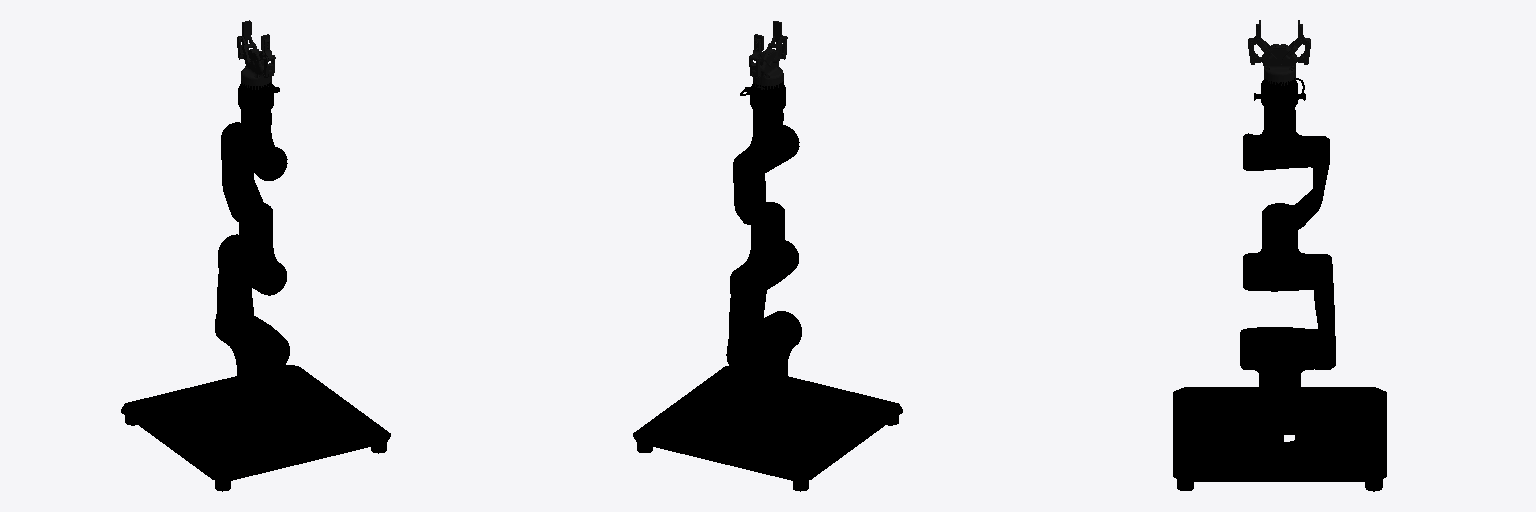
--- Facts derived from the render (not from the file) ---
Views: 3 orthographic renders of the robot side by side, from view 1: azimuth 30°, elevation 25°; view 2: azimuth 150°, elevation 25°; view 3: azimuth 270°, elevation 25°.
Model mara with 24 links and 23 joints (12 revolute, 11 fixed), rooted at world, posed every joint at zero.
Links seen in each view (by area): view 1: base_link, base_robot, motor4_link, motor1_link, motor1_cover, motor2_link, motor3_link, motor5_link, motor3_cover, motor5_cover, motor6_link, robotiq_arg2f_base; view 2: base_link, base_robot, motor2_link, motor4_link, motor1_link, motor3_link, motor5_link, motor6_link, motor1_cover, robotiq_arg2f_base, motor5_cover; view 3: base_link, base_robot, motor1_link, motor3_link, motor4_link, motor5_link, motor2_link, motor1_cover, motor6_link, motor5_cover, robotiq_arg2f_base, motor3_cover.
Boxes of the visible links, x1,y1,x2,y2 form: base_link: (121,364,390,491); base_robot: (207,386,304,441); motor4_link: (221,122,272,229); motor1_link: (223,312,275,395); motor1_cover: (221,310,289,399); motor2_link: (215,234,253,342); motor3_link: (227,228,276,282); motor5_link: (230,113,274,165); motor3_cover: (225,225,286,295); motor5_cover: (227,110,287,180); motor6_link: (238,81,279,114); robotiq_arg2f_base: (241,48,271,89); base_link: (633,366,902,491); base_robot: (719,386,816,441); motor2_link: (726,263,766,377); motor4_link: (733,150,784,230); motor1_link: (748,321,794,395); motor3_link: (744,226,792,289); motor5_link: (746,113,789,172); motor6_link: (740,81,785,114); motor1_cover: (748,311,801,399); robotiq_arg2f_base: (753,48,783,89); motor5_cover: (745,110,799,171); base_link: (1173,387,1386,491); base_robot: (1229,395,1330,451); motor1_link: (1254,327,1313,405); motor3_link: (1254,230,1309,290); motor4_link: (1262,136,1329,232); motor5_link: (1256,110,1307,168); motor2_link: (1314,254,1335,369); motor1_cover: (1240,327,1317,409); motor6_link: (1254,78,1305,111); motor5_cover: (1243,108,1312,170); robotiq_arg2f_base: (1261,44,1297,85); motor3_cover: (1243,227,1313,291).
Bounding box of the posed robot: 0.5004 × 0.5004 × 1.1 m (x, y, z).
20 mesh visuals loaded from 21 distinct referenced files (20 Collada DAE); not drawn: 5 (reference not matched to a file when rendering).

URDF robot description (mara):
<?xml version="1.0" ?>
<!-- =================================================================================== -->
<!-- |    This document was autogenerated by xacro from [local-path]/ros2_mara_ws/src/mara/mara_description/urdf/mara_robot_gripper_85.urdf.xacro | -->
<!-- |    EDITING THIS FILE BY HAND IS NOT RECOMMENDED                                 | -->
<!-- =================================================================================== -->
<robot name="mara" xmlns:xacro="http://ros.org/wiki/xacro">
  <!--
  Author: Alejandro  Hernandez
-->
  <link name="base_link">
    <inertial>
      <origin rpy="0 0 0" xyz="8.625E-08 -4.6583E-06 0.03145"/>
      <mass value="7.033"/>
      <inertia ixx="0.1478344" ixy="-0.00001" ixz="0.0" iyy="0.14782335" iyz="0.0" izz="0.29471799"/>
    </inertial>
    <visual>
      <origin rpy="0 0 0" xyz="0 0 0"/>
      <geometry>
        <mesh filename="package://mara_description/meshes/Base_plancha.dae" scale="0.001 0.001 0.001"/>
      </geometry>
      <material name="Gazebo/Grey">
        <color rgba="0. 0. 0. 1"/>
      </material>
    </visual>
    <collision>
      <origin rpy="0 0 0" xyz="0 0 0"/>
      <geometry>
        <mesh filename="package://mara_description/meshes/Base_plancha.dae" scale="0.001 0.001 0.001"/>
      </geometry>
    </collision>
  </link>
  <gazebo reference="base_link">
    <material>Gazebo/Grey</material>
    <selfCollide>True</selfCollide>
  </gazebo>
  <link name="base_robot">
    <inertial>
      <origin rpy="0 0 0" xyz="8.625E-08 -4.6583E-06 0.03145"/>
      <mass value="7.033"/>
      <inertia ixx="0.1478344" ixy="-0.00001" ixz="0.0" iyy="0.14782335" iyz="0.0" izz="0.29471799"/>
    </inertial>
    <visual>
      <origin rpy="0 0 0" xyz="0 0 0"/>
      <geometry>
        <mesh filename="package://mara_description/meshes/Base.dae" scale="0.001 0.001 0.001"/>
      </geometry>
      <material name="Gazebo/Black">
        <color rgba="0. 0. 0. 1"/>
      </material>
    </visual>
    <collision>
      <origin rpy="0 0 0" xyz="0 0 0"/>
      <geometry>
        <mesh filename="package://mara_description/meshes/Base.dae" scale="0.001 0.001 0.001"/>
      </geometry>
    </collision>
  </link>
  <gazebo reference="base_robot">
    <material>Gazebo/Black</material>
    <selfCollide>True</selfCollide>
  </gazebo>
  <link name="motor1_link">
    <inertial>
      <origin rpy="0 0 0" xyz="8.625E-08 -4.6583E-06 0.03145"/>
      <mass value="5.8"/>
      <inertia ixx="0.10105893" ixy="0.000211" ixz="-0.004" iyy="0.09386624" iyz="-0.01698537" izz="0.01449937"/>
    </inertial>
    <visual>
      <origin rpy="0 0 0" xyz="0 0 0"/>
      <geometry>
        <mesh filename="package://mara_description/meshes/MARA_T49.dae" scale="0.001 0.001 0.001"/>
      </geometry>
      <material name="Gazebo/White">
        <color rgba="0. 0. 0. 1"/>
      </material>
    </visual>
    <collision>
      <origin rpy="0 0 0" xyz="0 0 0"/>
      <geometry>
        <mesh filename="package://mara_description/meshes/MARA_T49.dae" scale="0.001 0.001 0.001"/>
      </geometry>
    </collision>
  </link>
  <gazebo reference="motor1_link">
    <material>Gazebo/White</material>
    <selfCollide>True</selfCollide>
  </gazebo>
  <link name="motor1_cover">
    <inertial>
      <origin rpy="0 0 0" xyz="8.625E-08 -4.6583E-06 0.03145"/>
      <mass value="5.8"/>
      <inertia ixx="0.10105893" ixy="0.000211" ixz="-0.004" iyy="0.09386624" iyz="-0.01698537" izz="0.01449937"/>
    </inertial>
    <visual>
      <origin rpy="0 0 0" xyz="0 0 0"/>
      <geometry>
        <mesh filename="package://mara_description/meshes/MARA_T49_Black.dae" scale="0.001 0.001 0.001"/>
      </geometry>
      <material name="Gazebo/Black">
        <color rgba="0. 0. 0. 1"/>
      </material>
    </visual>
    <collision>
      <origin rpy="0 0 0" xyz="0 0 0"/>
      <geometry>
        <mesh filename="package://mara_description/meshes/MARA_T49_Black.dae" scale="0.001 0.001 0.001"/>
      </geometry>
    </collision>
  </link>
  <gazebo reference="motor1_cover">
    <material>Gazebo/Black</material>
    <selfCollide>True</selfCollide>
  </gazebo>
  <link name="motor2_link">
    <inertial>
      <origin rpy="0 0 0" xyz="8.625E-08 -4.6583E-06 0.03145"/>
      <mass value="1.03237"/>
      <inertia ixx="0.014865226" ixy="0.0" ixz="0.0" iyy="0.01557" iyz="0.00071" izz="0.00092"/>
    </inertial>
    <visual>
      <origin rpy="0 0 0" xyz="0 0 0"/>
      <geometry>
        <mesh filename="package://mara_description/meshes/MARA_Link1.dae" scale="0.001 0.001 0.001"/>
      </geometry>
      <material name="Gazebo/Black">
        <color rgba="0. 0. 0. 1"/>
      </material>
    </visual>
    <collision>
      <origin rpy="0 0 0" xyz="0 0 0"/>
      <geometry>
        <mesh filename="package://mara_description/meshes/MARA_Link1.dae" scale="0.001 0.001 0.001"/>
      </geometry>
    </collision>
  </link>
  <gazebo reference="motor2_link">
    <material>Gazebo/Black</material>
    <selfCollide>True</selfCollide>
  </gazebo>
  <link name="motor3_link">
    <inertial>
      <origin rpy="0 0 0" xyz="8.625E-08 -4.6583E-06 0.03145"/>
      <mass value="3.8"/>
      <inertia ixx="0.04517" ixy="0.00002" ixz="0.0" iyy="0.01587" iyz="0.01444" izz="0.03303"/>
    </inertial>
    <visual>
      <origin rpy="0 0 0" xyz="0 0 0"/>
      <geometry>
        <mesh filename="package://mara_description/meshes/MARA_T30.dae" scale="0.001 0.001 0.001"/>
      </geometry>
      <material name="Gazebo/White">
        <color rgba="0. 0. 0. 1"/>
      </material>
    </visual>
    <collision>
      <origin rpy="0 0 0" xyz="0 0 0"/>
      <geometry>
        <mesh filename="package://mara_description/meshes/MARA_T30.dae" scale="0.001 0.001 0.001"/>
      </geometry>
    </collision>
  </link>
  <gazebo reference="motor3_link">
    <material>Gazebo/White</material>
    <selfCollide>True</selfCollide>
  </gazebo>
  <link name="motor3_cover">
    <inertial>
      <origin rpy="0 0 0" xyz="8.625E-08 -4.6583E-06 0.03145"/>
      <mass value="3.8"/>
      <inertia ixx="0.04517" ixy="0.00002" ixz="0.0" iyy="0.01587" iyz="0.01444" izz="0.03303"/>
    </inertial>
    <visual>
      <origin rpy="0 0 0" xyz="0 0 0"/>
      <geometry>
        <mesh filename="package://mara_description/meshes/MARA_T30_Black.dae" scale="0.001 0.001 0.001"/>
      </geometry>
      <material name="Gazebo/Black">
        <color rgba="0. 0. 0. 1"/>
      </material>
    </visual>
    <collision>
      <origin rpy="0 0 0" xyz="0 0 0"/>
      <geometry>
        <mesh filename="package://mara_description/meshes/MARA_T30_Black.dae" scale="0.001 0.001 0.001"/>
      </geometry>
    </collision>
  </link>
  <gazebo reference="motor3_cover">
    <material>Gazebo/Black</material>
    <selfCollide>True</selfCollide>
  </gazebo>
  <link name="motor4_link">
    <inertial>
      <origin rpy="0 0 0" xyz="8.625E-08 -4.6583E-06 0.03145"/>
      <mass value="1.1"/>
      <inertia ixx="0.01464" ixy="0.0" ixz="0.0" iyy="0.00895" iyz="-0.00631" izz="0.00725"/>
    </inertial>
    <visual>
      <origin rpy="0 0 0" xyz="0 0 0"/>
      <geometry>
        <mesh filename="package://mara_description/meshes/MARA_Link2.dae" scale="0.001 0.001 0.001"/>
      </geometry>
      <material name="Gazebo/Black">
        <color rgba="0. 0. 0. 1"/>
      </material>
    </visual>
    <collision>
      <origin rpy="0 0 0" xyz="0 0 0"/>
      <geometry>
        <mesh filename="package://mara_description/meshes/MARA_Link2.dae" scale="0.001 0.001 0.001"/>
      </geometry>
    </collision>
  </link>
  <gazebo reference="motor4_link">
    <material>Gazebo/Black</material>
    <selfCollide>True</selfCollide>
  </gazebo>
  <link name="motor5_link">
    <inertial>
      <origin rpy="0 0 0" xyz="8.625E-08 -4.6583E-06 0.03145"/>
      <mass value="2.9"/>
      <inertia ixx="0.03406" ixy="0.0" ixz="0.0" iyy="0.01066" iyz="0.00989" izz="0.02563"/>
    </inertial>
    <visual>
      <origin rpy="0 0 0" xyz="0 0 0"/>
      <geometry>
        <mesh filename="package://mara_description/meshes/MARA_T5.4.dae" scale="0.001 0.001 0.001"/>
      </geometry>
      <material name="Gazebo/White">
        <color rgba="0. 0. 0. 1"/>
      </material>
    </visual>
    <collision>
      <origin rpy="0 0 0" xyz="0 0 0"/>
      <geometry>
        <mesh filename="package://mara_description/meshes/MARA_T5.4.dae" scale="0.001 0.001 0.001"/>
      </geometry>
    </collision>
  </link>
  <gazebo reference="motor5_link">
    <material>Gazebo/White</material>
    <selfCollide>True</selfCollide>
  </gazebo>
  <link name="motor5_cover">
    <inertial>
      <origin rpy="0 0 0" xyz="8.625E-08 -4.6583E-06 0.03145"/>
      <mass value="2.9"/>
      <inertia ixx="0.03406" ixy="0.0" ixz="0.0" iyy="0.01066" iyz="0.00989" izz="0.02563"/>
    </inertial>
    <visual>
      <origin rpy="0 0 0" xyz="0 0 0"/>
      <geometry>
        <mesh filename="package://mara_description/meshes/MARA_T5.4_black.dae" scale="0.001 0.001 0.001"/>
      </geometry>
      <material name="Gazebo/Black">
        <color rgba="0. 0. 0. 1"/>
      </material>
    </visual>
    <collision>
      <origin rpy="0 0 0" xyz="0 0 0"/>
      <geometry>
        <mesh filename="package://mara_description/meshes/MARA_T5.4_black.dae" scale="0.001 0.001 0.001"/>
      </geometry>
    </collision>
  </link>
  <gazebo reference="motor5_cover">
    <material>Gazebo/Black</material>
    <selfCollide>True</selfCollide>
  </gazebo>
  <link name="motor6_link">
    <inertial>
      <origin rpy="0 0 0" xyz="8.625E-08 -4.6583E-06 0.03145"/>
      <mass value="2.9"/>
      <inertia ixx="0.0005" ixy="0.0" ixz="0.0" iyy="0.0005" iyz="0.0000" izz="0.0003"/>
    </inertial>
    <visual>
      <origin rpy="0 0 0" xyz="0 0 0"/>
      <geometry>
        <mesh filename="package://mara_description/meshes/MARA_GripperAdapter.dae" scale="0.001 0.001 0.001"/>
      </geometry>
      <material name="Gazebo/Black">
        <color rgba="0. 0. 0. 1"/>
      </material>
    </visual>
    <collision>
      <origin rpy="0 0 0" xyz="0 0 0"/>
      <geometry>
        <mesh filename="package://mara_description/meshes/MARA_GripperAdapter.dae" scale="0.001 0.001 0.001"/>
      </geometry>
    </collision>
  </link>
  <gazebo reference="motor6_link">
    <material>Gazebo/Black</material>
    <selfCollide>True</selfCollide>
  </gazebo>
  <link name="ee_link">
    </link>
  <gazebo reference="ee_link">
    <material>Gazebo/Blue</material>
    <selfCollide>False</selfCollide>
  </gazebo>
  <joint name="joint_bases" type="fixed">
    <origin rpy="0 0 0" xyz="0 0 0.04"/>
    <parent link="base_link"/>
    <child link="base_robot"/>
  </joint>
  <joint name="motor1" type="revolute">
    <origin rpy="0 0 0" xyz="0 0 0.05122"/>
    <parent link="base_robot"/>
    <child link="motor1_link"/>
    <axis xyz="0 0 -1"/>
    <limit effort="330.0" lower="-3.1416" upper="3.1416" velocity="3.1416"/>
    <dynamics damping="0" friction="0"/>
  </joint>
  <joint name="motor1_cover_joint" type="fixed">
    <origin rpy="0 0 0" xyz="0 0 0.0"/>
    <parent link="motor1_link"/>
    <child link="motor1_cover"/>
  </joint>
  <joint name="motor2" type="revolute">
    <origin rpy="0 0 0" xyz="0.118 0 0.1637"/>
    <parent link="motor1_link"/>
    <child link="motor2_link"/>
    <axis xyz="-1 0 0"/>
    <limit effort="330.0" lower="-3.1416" upper="3.1416" velocity="3.1416"/>
    <dynamics damping="0" friction="0"/>
  </joint>
  <joint name="motor3" type="revolute">
    <origin rpy="0 0 0" xyz="-0.009 0 0.2"/>
    <parent link="motor2_link"/>
    <child link="motor3_link"/>
    <axis xyz="1 0 0"/>
    <limit effort="330.0" lower="-3.1416" upper="3.1416" velocity="3.1416"/>
    <dynamics damping="0" friction="0"/>
  </joint>
  <joint name="motor3_cover_joint" type="fixed">
    <origin rpy="0 0 0" xyz="0 0 0.0"/>
    <parent link="motor3_link"/>
    <child link="motor3_cover"/>
  </joint>
  <joint name="motor4" type="revolute">
    <origin rpy="0 0 0" xyz="-0.109255 0 0.149255"/>
    <parent link="motor3_link"/>
    <child link="motor4_link"/>
    <axis xyz="0 0 -1"/>
    <limit effort="330.0" lower="-3.1416" upper="3.1416" velocity="3.1416"/>
    <dynamics damping="0" friction="0"/>
  </joint>
  <joint name="motor5" type="revolute">
    <origin rpy="0 0 0" xyz="0.1054570 0 0.16074"/>
    <parent link="motor4_link"/>
    <child link="motor5_link"/>
    <axis xyz="1 0 0"/>
    <limit effort="330.0" lower="-3.1416" upper="3.1416" velocity="3.1416"/>
    <dynamics damping="0" friction="0"/>
  </joint>
  <joint name="motor5_cover_joint" type="fixed">
    <origin rpy="0 0 0" xyz="0 0 0.0"/>
    <parent link="motor5_link"/>
    <child link="motor5_cover"/>
  </joint>
  <joint name="motor6" type="revolute">
    <origin rpy="0 0 0" xyz="-0.10625569 0 0.14675569"/>
    <parent link="motor5_link"/>
    <child link="motor6_link"/>
    <axis xyz="0 0 -1"/>
    <limit effort="330.0" lower="-3.1416" upper="3.1416" velocity="3.1416"/>
    <dynamics damping="0" friction="0"/>
  </joint>
  <joint name="ee_link" type="fixed">
    <origin rpy="0 -1.57 0" xyz="0 0.0 0.165"/>
    <!-- 0.24 -->
    <parent link="motor6_link"/>
    <child link="ee_link"/>
  </joint>
  <link name="tool0"/>
  <joint name="motor6_link-tool0_fixed_joint" type="fixed">
    <origin rpy="0 -1.57 0" xyz="0 0.0 0.165"/>
    <parent link="motor6_link"/>
    <child link="tool0"/>
  </joint>
  <transmission name="shoulder_pan_trans">
    <type>transmission_interface/SimpleTransmission</type>
    <joint name="motor1">
      <hardwareInterface>hardware_interface/PositionJointInterface</hardwareInterface>
    </joint>
    <actuator name="shoulder_pan_motor">
      <mechanicalReduction>1</mechanicalReduction>
    </actuator>
  </transmission>
  <transmission name="shoulder_lift_trans">
    <type>transmission_interface/SimpleTransmission</type>
    <joint name="motor2">
      <hardwareInterface>hardware_interface/PositionJointInterface</hardwareInterface>
    </joint>
    <actuator name="shoulder_lift_motor">
      <mechanicalReduction>1</mechanicalReduction>
    </actuator>
  </transmission>
  <transmission name="elbow_trans">
    <type>transmission_interface/SimpleTransmission</type>
    <joint name="motor3">
      <hardwareInterface>hardware_interface/PositionJointInterface</hardwareInterface>
    </joint>
    <actuator name="elbow_motor">
      <mechanicalReduction>1</mechanicalReduction>
    </actuator>
  </transmission>
  <transmission name="wrist_1_trans">
    <type>transmission_interface/SimpleTransmission</type>
    <joint name="motor4">
      <hardwareInterface>hardware_interface/PositionJointInterface</hardwareInterface>
    </joint>
    <actuator name="wrist_1_motor">
      <mechanicalReduction>1</mechanicalReduction>
    </actuator>
  </transmission>
  <transmission name="wrist_2_trans">
    <type>transmission_interface/SimpleTransmission</type>
    <joint name="motor5">
      <hardwareInterface>hardware_interface/PositionJointInterface</hardwareInterface>
    </joint>
    <actuator name="wrist_2_motor">
      <mechanicalReduction>1</mechanicalReduction>
    </actuator>
  </transmission>
  <transmission name="wrist_3_trans">
    <type>transmission_interface/SimpleTransmission</type>
    <joint name="motor6">
      <hardwareInterface>hardware_interface/PositionJointInterface</hardwareInterface>
    </joint>
    <actuator name="wrist_3_motor">
      <mechanicalReduction>1</mechanicalReduction>
    </actuator>
  </transmission>
  <gazebo>
    <plugin filename="libmara_gazebo_joint_training_plugin.so" name="hros_actuation_servomotor_00000000000">
      <ros/>
      <axis1>motor2</axis1>
      <axis2>motor1</axis2>
      <axis3>motor3</axis3>
      <axis4>motor4</axis4>
      <axis5>motor5</axis5>
      <axis6>motor6</axis6>
    </plugin>
  </gazebo>
  <link name="robotiq_arg2f_base">
    <inertial>
      <origin rpy="0 0 0" xyz="8.625E-08 -4.6583E-06 0.03145"/>
      <mass value="0.22652"/>
      <inertia ixx="0.00020005" ixy="0" ixz="0" iyy="0.00017832" iyz="0" izz="0.00013478"/>
    </inertial>
    <visual>
      <origin rpy="0 0 0" xyz="0 0 0"/>
      <geometry>
        <mesh filename="package://robotiq_85_gripper_description/meshes/base_gripper.dae" scale="0.001 0.001 0.001"/>
      </geometry>
      <material name="Gazebo/Black">
        <color rgba="0.1 0.1 0.1 1"/>
      </material>
    </visual>
    <collision>
      <origin rpy="0 0 0" xyz="0 0 0"/>
      <geometry>
        <mesh filename="package://robotiq_85_gripper_description/meshes/base_gripper.dae" scale="0.001 0.001 0.001"/>
      </geometry>
    </collision>
  </link>
  <gazebo reference="robotiq_arg2f_base">
    <material>Gazebo/Black</material>
    <selfCollide>True</selfCollide>
  </gazebo>
  <link name="left_outer_knuckle">
    <inertial>
      <origin rpy="0 0 0" xyz="8.625E-08 -4.6583E-06 0.03145"/>
      <mass value="0.22652"/>
      <inertia ixx="0.00020005" ixy="0" ixz="0" iyy="0.00017832" iyz="0" izz="0.00013478"/>
    </inertial>
    <visual>
      <origin rpy="0 0 0" xyz="0 0 0"/>
      <geometry>
        <mesh filename="package://robotiq_85_gripper_description/meshes/2-F-85_1_l.dae" scale="0.001 0.001 0.001"/>
      </geometry>
      <material name="Gazebo/Grey">
        <color rgba="0.1 0.1 0.1 1"/>
      </material>
    </visual>
    <collision>
      <origin rpy="0 0 0" xyz="0 0 0"/>
      <geometry>
        <mesh filename="package://robotiq_85_gripper_description/meshes/2-F-85_1_l.dae" scale="0.001 0.001 0.001"/>
      </geometry>
    </collision>
  </link>
  <gazebo reference="left_outer_knuckle">
    <material>Gazebo/Grey</material>
    <selfCollide>True</selfCollide>
  </gazebo>
  <link name="right_outer_knuckle">
    <inertial>
      <origin rpy="0 0 0" xyz="8.625E-08 -4.6583E-06 0.03145"/>
      <mass value="0.22652"/>
      <inertia ixx="0.00020005" ixy="0" ixz="0" iyy="0.00017832" iyz="0" izz="0.00013478"/>
    </inertial>
    <visual>
      <origin rpy="0 0 0" xyz="0 0 0"/>
      <geometry>
        <mesh filename="package://robotiq_85_gripper_description/meshes/2-F-85_1_r.dae" scale="0.001 0.001 0.001"/>
      </geometry>
      <material name="Gazebo/Grey">
        <color rgba="0.1 0.1 0.1 1"/>
      </material>
    </visual>
    <collision>
      <origin rpy="0 0 0" xyz="0 0 0"/>
      <geometry>
        <mesh filename="package://robotiq_85_gripper_description/meshes/2-F-85_1_r.dae" scale="0.001 0.001 0.001"/>
      </geometry>
    </collision>
  </link>
  <gazebo reference="right_outer_knuckle">
    <material>Gazebo/Grey</material>
    <selfCollide>True</selfCollide>
  </gazebo>
  <link name="left_outer_finger">
    <inertial>
      <origin rpy="0 0 0" xyz="8.625E-08 -4.6583E-06 0.03145"/>
      <mass value="0.22652"/>
      <inertia ixx="0.00020005" ixy="0" ixz="0" iyy="0.00017832" iyz="0" izz="0.00013478"/>
    </inertial>
    <visual>
      <origin rpy="0 0 0" xyz="0 0 0"/>
      <geometry>
        <mesh filename="package://robotiq_85_gripper_description/meshes/2-F-85_3_l.dae" scale="0.001 0.001 0.001"/>
      </geometry>
      <material name="Gazebo/Black">
        <color rgba="0.1 0.1 0.1 1"/>
      </material>
    </visual>
    <collision>
      <origin rpy="0 0 0" xyz="0 0 0"/>
      <geometry>
        <mesh filename="package://robotiq_85_gripper_description/meshes/2-F-85_3_l.dae" scale="0.001 0.001 0.001"/>
      </geometry>
    </collision>
  </link>
  <gazebo reference="left_outer_finger">
    <material>Gazebo/Black</material>
    <selfCollide>True</selfCollide>
  </gazebo>
  <link name="right_outer_finger">
    <inertial>
      <origin rpy="0 0 0" xyz="8.625E-08 -4.6583E-06 0.03145"/>
      <mass value="0.22652"/>
      <inertia ixx="0.00020005" ixy="0" ixz="0" iyy="0.00017832" iyz="0" izz="0.00013478"/>
    </inertial>
    <visual>
      <origin rpy="0 0 0" xyz="0 0 0"/>
      <geometry>
        <mesh filename="package://robotiq_85_gripper_description/meshes/2-F-85_3_r.dae" scale="0.001 0.001 0.001"/>
      </geometry>
      <material name="Gazebo/Black">
        <color rgba="0.1 0.1 0.1 1"/>
      </material>
    </visual>
    <collision>
      <origin rpy="0 0 0" xyz="0 0 0"/>
      <geometry>
        <mesh filename="package://robotiq_85_gripper_description/meshes/2-F-85_3_r.dae" scale="0.001 0.001 0.001"/>
      </geometry>
    </collision>
  </link>
  <gazebo reference="right_outer_finger">
    <material>Gazebo/Black</material>
    <selfCollide>True</selfCollide>
  </gazebo>
  <link name="left_inner_knuckle">
    <inertial>
      <origin rpy="0 0 0" xyz="8.625E-08 -4.6583E-06 0.03145"/>
      <mass value="0.22652"/>
      <inertia ixx="0.00020005" ixy="0" ixz="0" iyy="0.00017832" iyz="0" izz="0.00013478"/>
    </inertial>
    <visual>
      <origin rpy="0 0 0" xyz="0 0 0"/>
      <geometry>
        <mesh filename="package://robotiq_85_gripper_description/meshes/2-F-85_2_l.dae" scale="0.001 0.001 0.001"/>
      </geometry>
      <material name="Gazebo/Black">
        <color rgba="0.1 0.1 0.1 1"/>
      </material>
    </visual>
    <collision>
      <origin rpy="0 0 0" xyz="0 0 0"/>
      <geometry>
        <mesh filename="package://robotiq_85_gripper_description/meshes/2-F-85_2_l.dae" scale="0.001 0.001 0.001"/>
      </geometry>
    </collision>
  </link>
  <gazebo reference="left_inner_knuckle">
    <material>Gazebo/Black</material>
    <selfCollide>True</selfCollide>
  </gazebo>
  <link name="right_inner_knuckle">
    <inertial>
      <origin rpy="0 0 0" xyz="8.625E-08 -4.6583E-06 0.03145"/>
      <mass value="0.22652"/>
      <inertia ixx="0.00020005" ixy="0" ixz="0" iyy="0.00017832" iyz="0" izz="0.00013478"/>
    </inertial>
    <visual>
      <origin rpy="0 0 0" xyz="0 0 0"/>
      <geometry>
        <mesh filename="package://robotiq_85_gripper_description/meshes/2-F-85_2_r.dae" scale="0.001 0.001 0.001"/>
      </geometry>
      <material name="Gazebo/Black">
        <color rgba="0.1 0.1 0.1 1"/>
      </material>
    </visual>
    <collision>
      <origin rpy="0 0 0" xyz="0 0 0"/>
      <geometry>
        <mesh filename="package://robotiq_85_gripper_description/meshes/2-F-85_2_r.dae" scale="0.001 0.001 0.001"/>
      </geometry>
    </collision>
  </link>
  <gazebo reference="right_inner_knuckle">
    <material>Gazebo/Black</material>
    <selfCollide>True</selfCollide>
  </gazebo>
  <link name="left_inner_finger">
    <inertial>
      <origin rpy="0 0 0" xyz="8.625E-08 -4.6583E-06 0.03145"/>
      <mass value="0.22652"/>
      <inertia ixx="0.00020005" ixy="0" ixz="0" iyy="0.00017832" iyz="0" izz="0.00013478"/>
    </inertial>
    <visual>
      <origin rpy="0 0 0" xyz="0 0 0"/>
      <geometry>
        <mesh filename="package://robotiq_85_gripper_description/meshes/2-F-85_4_l.dae" scale="0.001 0.001 0.001"/>
      </geometry>
      <material name="Gazebo/Black">
        <color rgba="0.1 0.1 0.1 1"/>
      </material>
    </visual>
    <collision>
      <origin rpy="0 0 0" xyz="0 0 0"/>
      <geometry>
        <mesh filename="package://robotiq_85_gripper_description/meshes/2-F-85_4_l.dae" scale="0.001 0.001 0.001"/>
      </geometry>
    </collision>
  </link>
  <gazebo reference="left_inner_finger">
    <material>Gazebo/Black</material>
    <selfCollide>True</selfCollide>
  </gazebo>
  <link name="right_inner_finger">
    <inertial>
      <origin rpy="0 0 0" xyz="8.625E-08 -4.6583E-06 0.03145"/>
      <mass value="0.22652"/>
      <inertia ixx="0.00020005" ixy="0" ixz="0" iyy="0.00017832" iyz="0" izz="0.00013478"/>
    </inertial>
    <visual>
      <origin rpy="0 0 0" xyz="0 0 0"/>
      <geometry>
        <mesh filename="package://robotiq_85_gripper_description/meshes/2-F-85_4_r.dae" scale="0.001 0.001 0.001"/>
      </geometry>
      <material name="Gazebo/Black">
        <color rgba="0.1 0.1 0.1 1"/>
      </material>
    </visual>
    <collision>
      <origin rpy="0 0 0" xyz="0 0 0"/>
      <geometry>
        <mesh filename="package://robotiq_85_gripper_description/meshes/2-F-85_4_r.dae" scale="0.001 0.001 0.001"/>
      </geometry>
    </collision>
  </link>
  <gazebo reference="right_inner_finger">
    <material>Gazebo/Black</material>
    <selfCollide>True</selfCollide>
  </gazebo>
  <joint name="left_outer_knuckle_joint" type="revolute">
    <origin rpy="0 0 0" xyz="-0.0306 0 0.05490"/>
    <parent link="robotiq_arg2f_base"/>
    <child link="left_outer_knuckle"/>
    <axis xyz="0 1 0"/>
    <limit effort="1000" lower="0.0" upper="0.78" velocity="2.0"/>
    <mimic joint="joint_finger" multiplier="1" offset="0"/>
  </joint>
  <joint name="joint_finger" type="revolute">
    <origin rpy="0 0 3.1416" xyz="0.0306 0 0.05490"/>
    <parent link="robotiq_arg2f_base"/>
    <child link="right_outer_knuckle"/>
    <axis xyz="0 1 0"/>
    <limit effort="1000" lower="0" upper="0.78" velocity="2.0"/>
  </joint>
  <joint name="left_inner_knuckle_joint" type="revolute">
    <origin rpy="0 0 0" xyz="-0.0127 0 0.06142"/>
    <parent link="robotiq_arg2f_base"/>
    <child link="left_inner_knuckle"/>
    <axis xyz="0 1 0"/>
    <limit effort="1000" lower="0" upper="0.8757" velocity="2.0"/>
    <mimic joint="joint_finger" multiplier="1" offset="0"/>
  </joint>
  <joint name="right_inner_knuckle_joint" type="revolute">
    <origin rpy="0 0 3.1416" xyz="0.0127 0 0.06142"/>
    <parent link="robotiq_arg2f_base"/>
    <child link="right_inner_knuckle"/>
    <axis xyz="0 1 0"/>
    <limit effort="1000" lower="0" upper="0.8757" velocity="2.0"/>
    <mimic joint="joint_finger" multiplier="1" offset="0"/>
  </joint>
  <joint name="left_inner_finger_joint" type="revolute">
    <origin rpy="0 0.0 0" xyz="-0.005625 0 0.04718"/>
    <parent link="left_outer_finger"/>
    <child link="left_inner_finger"/>
    <axis xyz="0 -1 0"/>
    <limit effort="1000" lower="0" upper="0.775" velocity="2.0"/>
    <mimic joint="joint_finger" multiplier="1" offset="0"/>
  </joint>
  <joint name="right_inner_finger_joint" type="revolute">
    <origin rpy="0 0 0" xyz="-0.005625 0 0.04718"/>
    <parent link="right_outer_finger"/>
    <child link="right_inner_finger"/>
    <axis xyz="0 -1 0"/>
    <limit effort="1000" lower="0" upper="0.775" velocity="2.0"/>
    <mimic joint="joint_finger" multiplier="1" offset="0"/>
  </joint>
  <joint name="left_outer_finger_joint" type="fixed">
    <origin rpy="0 0 0" xyz="-0.03156 0 -0.003758"/>
    <parent link="left_outer_knuckle"/>
    <child link="left_outer_finger"/>
  </joint>
  <joint name="right_outer_finger_joint" type="fixed">
    <origin rpy="0 0 0" xyz="-0.03156 0 -0.003758"/>
    <parent link="right_outer_knuckle"/>
    <child link="right_outer_finger"/>
  </joint>
  <gazebo>
    <joint name="left_finger_joint2" type="revolute">
      <pose frame="">0.017901 0 0.00651469 0 0 0</pose>
      <parent>mara::left_inner_knuckle</parent>
      <child>mara::left_inner_finger</child>
      <axis>
        <xyz>0 -1 0</xyz>
        <limit>
          <lower>-0.8</lower>
          <upper>0.8</upper>
          <velocity>2.0</velocity>
          <effort>1000</effort>
        </limit>
      </axis>
    </joint>
    <joint name="right_finger_joint2" type="revolute">
      <pose frame="">0.017901 0 0.00651469 0 0 0</pose>
      <parent>mara::right_inner_knuckle</parent>
      <child>mara::right_inner_finger</child>
      <axis>
        <xyz>0 1 0</xyz>
        <limit>
          <lower>-0.8</lower>
          <upper>0.8</upper>
          <velocity>2.0</velocity>
          <effort>1000</effort>
        </limit>
      </axis>
    </joint>
    <plugin filename="librobotiq_angular_gripper_gazebo_plugin.so" name="robotiq_85_gripper">
      <left_joint>left_inner_knuckle_joint</left_joint>
      <left_joint>left_outer_knuckle_joint</left_joint>
      <right_joint>right_inner_knuckle_joint</right_joint>
      <right_joint>joint_finger</right_joint>
    </plugin>
  </gazebo>
  <link name="table">
    <contact>
      <lateral_friction value="1.0"/>
    </contact>
    <inertial>
      <origin rpy="0 0 0" xyz="0 0 0"/>
      <mass value="0.00001"/>
      <inertia ixx="0.001" ixy="0" ixz="0" iyy="0.001" iyz="0" izz="0.001"/>
    </inertial>
    <visual>
      <origin rpy="0 0 0" xyz="0 0 0.6"/>
      <geometry>
        <mesh filename="package://mara_description/urdf/table.obj" scale="1.5 1 0.05"/>
      </geometry>
      <material name="brown">
        <color rgba="0.63 0.16 0.16 1"/>
      </material>
    </visual>
    <collision>
      <origin rpy="0 0 0" xyz="0 0 0.6"/>
      <geometry>
        <box size="1.5 1 0.05"/>
      </geometry>
    </collision>
    <visual>
      <origin rpy="0 0 0" xyz="-0.65 -0.4 0.29"/>
      <geometry>
        <mesh filename="package://mara_description/urdf/table.obj" scale="0.1 0.1 0.58"/>
      </geometry>
      <material name="framemat0"/>
    </visual>
    <visual>
      <origin rpy="0 0 0" xyz="-0.65 0.4 0.29"/>
      <geometry>
        <mesh filename="package://mara_description/urdf/table.obj" scale="0.1 0.1 0.58"/>
      </geometry>
      <material name="framemat0"/>
    </visual>
    <visual>
      <origin rpy="0 0 0" xyz="0.65 -0.4 0.29"/>
      <geometry>
        <mesh filename="package://mara_description/urdf/table.obj" scale="0.1 0.1 0.58"/>
      </geometry>
      <material name="framemat0"/>
    </visual>
    <visual>
      <origin rpy="0 0 0" xyz="0.65 0.4 0.29"/>
      <geometry>
        <mesh filename="package://mara_description/urdf/table.obj" scale="0.1 0.1 0.58"/>
      </geometry>
    </visual>
  </link>
  <gazebo reference="table">
    <material>Gazebo/Brown</material>
    <selfCollide>True</selfCollide>
  </gazebo>
  <link name="world"/>
  <joint name="end_effector_adapter_to_robotiq" type="fixed">
    <origin rpy="0 0 0" xyz=" 0 0 0.03653"/>
    <parent link="motor6_link"/>
    <child link="robotiq_arg2f_base"/>
  </joint>
  <joint name="world_to_table_joint" type="fixed">
    <origin rpy="0 0 0" xyz="0 0 0.02"/>
    <parent link="world"/>
    <child link="table"/>
  </joint>
  <joint name="table_to_base_joint" type="fixed">
    <origin rpy="0 0 1.57" xyz="0 0 0.62"/>
    <parent link="table"/>
    <child link="base_link"/>
  </joint>
</robot>
